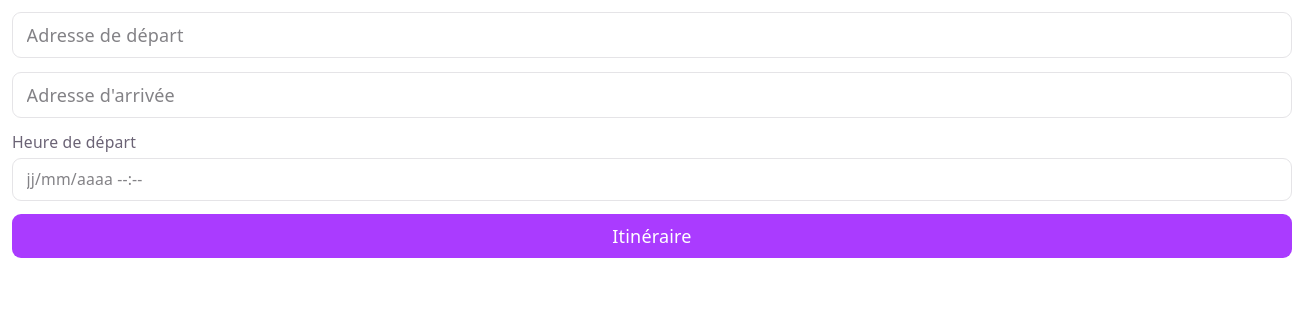
Test case: AddressForm › shows a validation message per empty address field and does not submit
Step 1. Click the button "Itinéraire" → click(652, 236), box [12,214,1292,258]
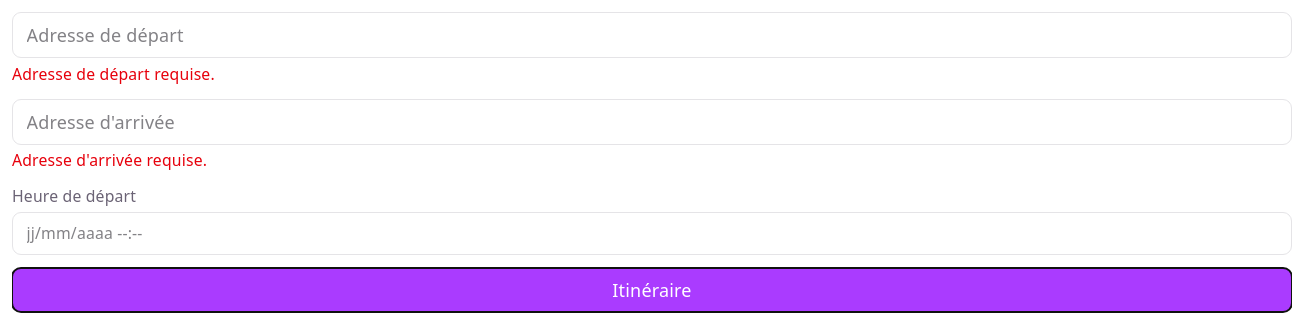
Expected: the text "Adresse de départ requise." is shown, [12,63,215,85]
Expected: the text "Adresse d'arrivée requise." is shown, [12,149,207,171]
